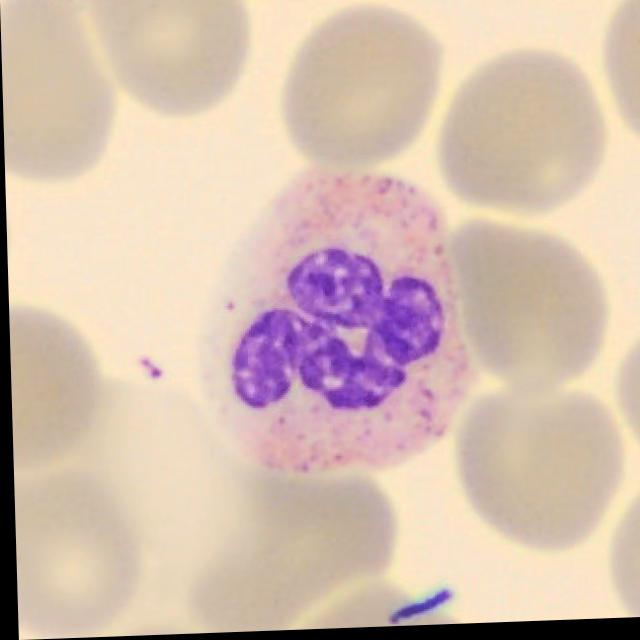Neutrofilo segmentado: (193, 172, 474, 477)
